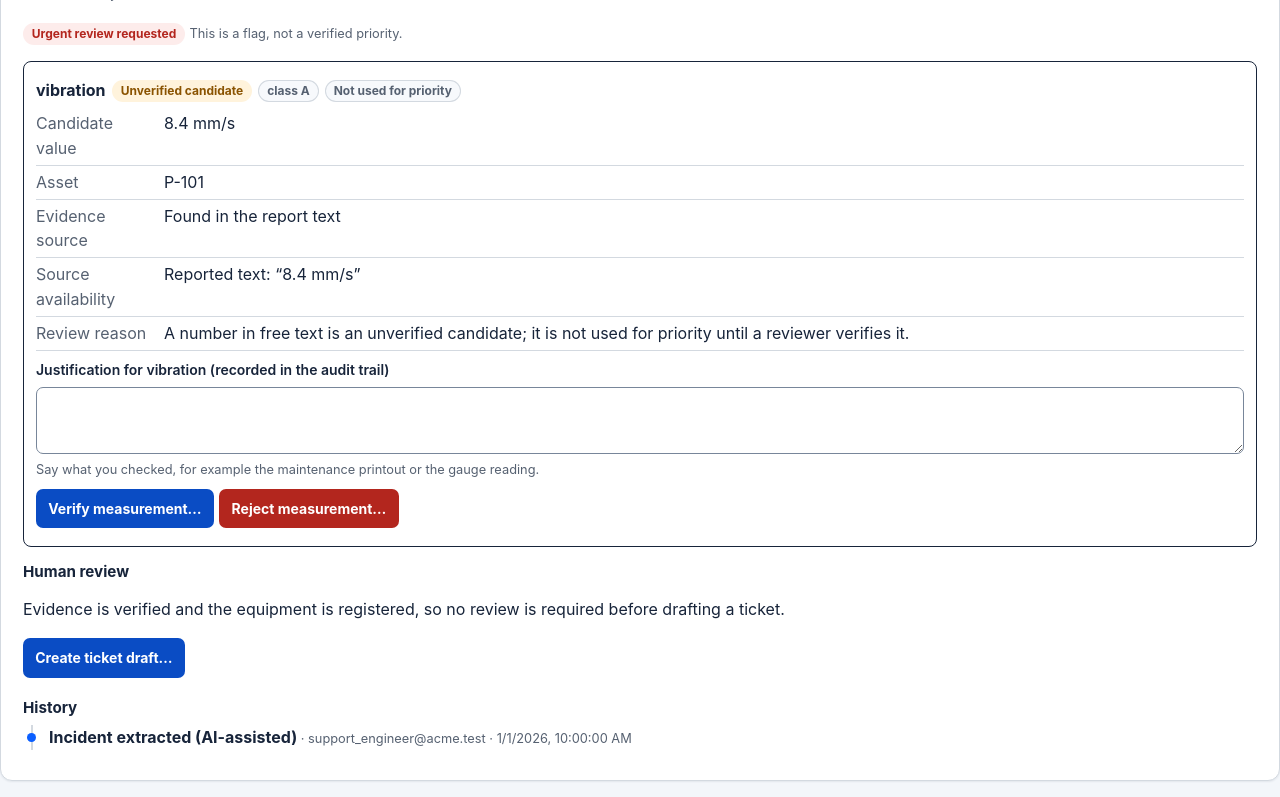
Test: measurement review panel › requires a written justification before the confirmation dialog
(page scrolled)
Click the button "Verify measurement…" at (125, 508), box [36,488,214,528]
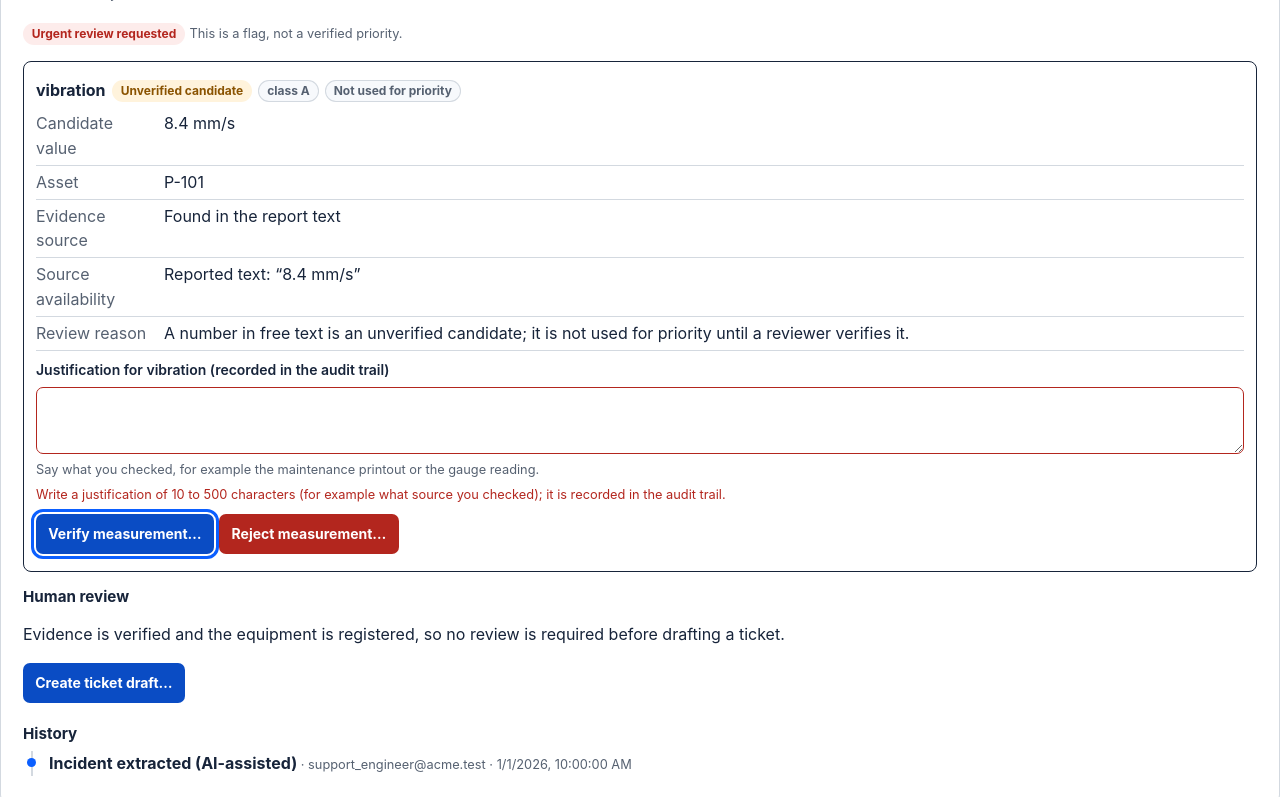
Now the text "Write a justification of 10 to 500 characters" is shown, box [36,487,726,502]
